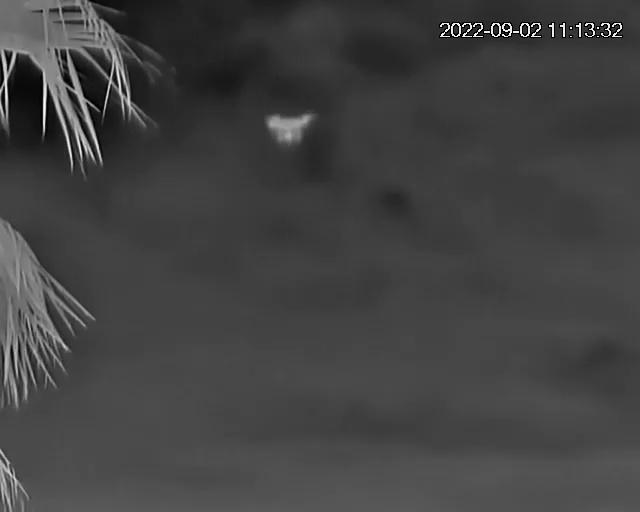DJI-Phantom: (266, 110, 317, 148)
